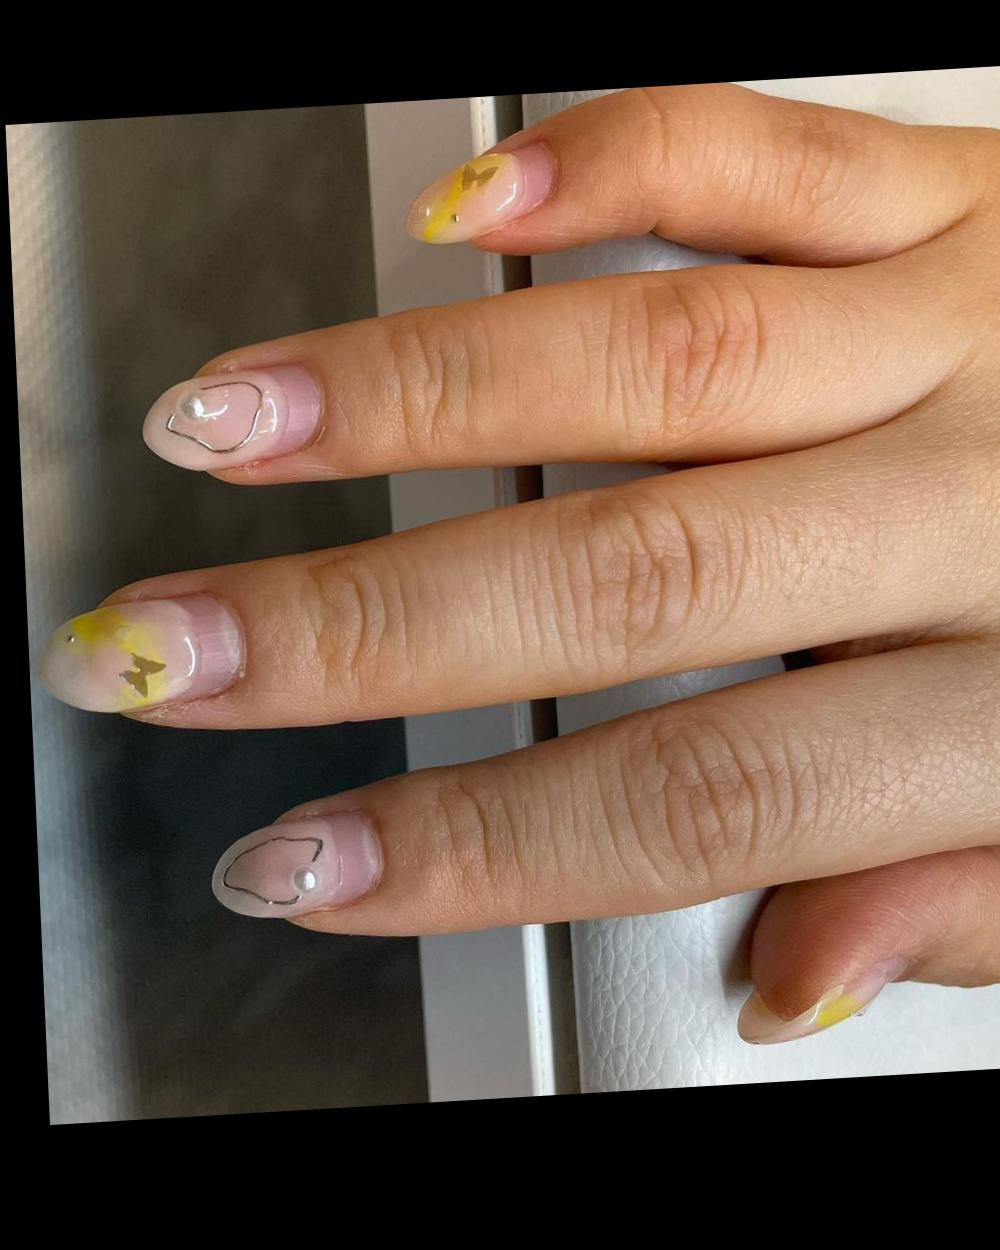nail: (35, 586, 250, 720), (138, 358, 328, 476), (207, 806, 386, 923), (402, 137, 561, 247), (734, 953, 912, 1046)
